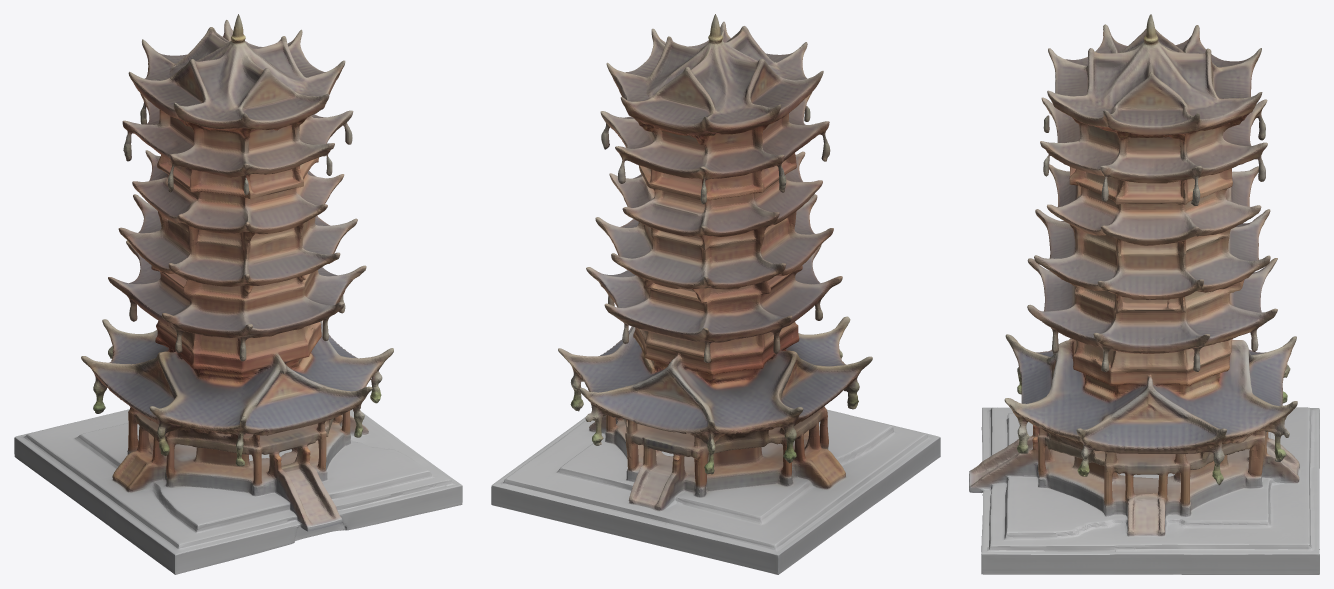
3 renders of one model, left to right at view 1: azimuth 30°, elevation 25°; view 2: azimuth 150°, elevation 25°; view 3: azimuth 270°, elevation 25°, orthographic. The views are drawn at different scales.
Parts seen in each view (by area): view 1: geometry_0; view 2: geometry_0; view 3: geometry_0.
Part boxes in pixels (box(x1,y1,x2,y2)): geometry_0: box(14, 14, 462, 574); geometry_0: box(491, 14, 940, 574); geometry_0: box(969, 14, 1319, 574).
Bounding box in the file's own units: 0.6435 × 0.9974 × 0.6498.
